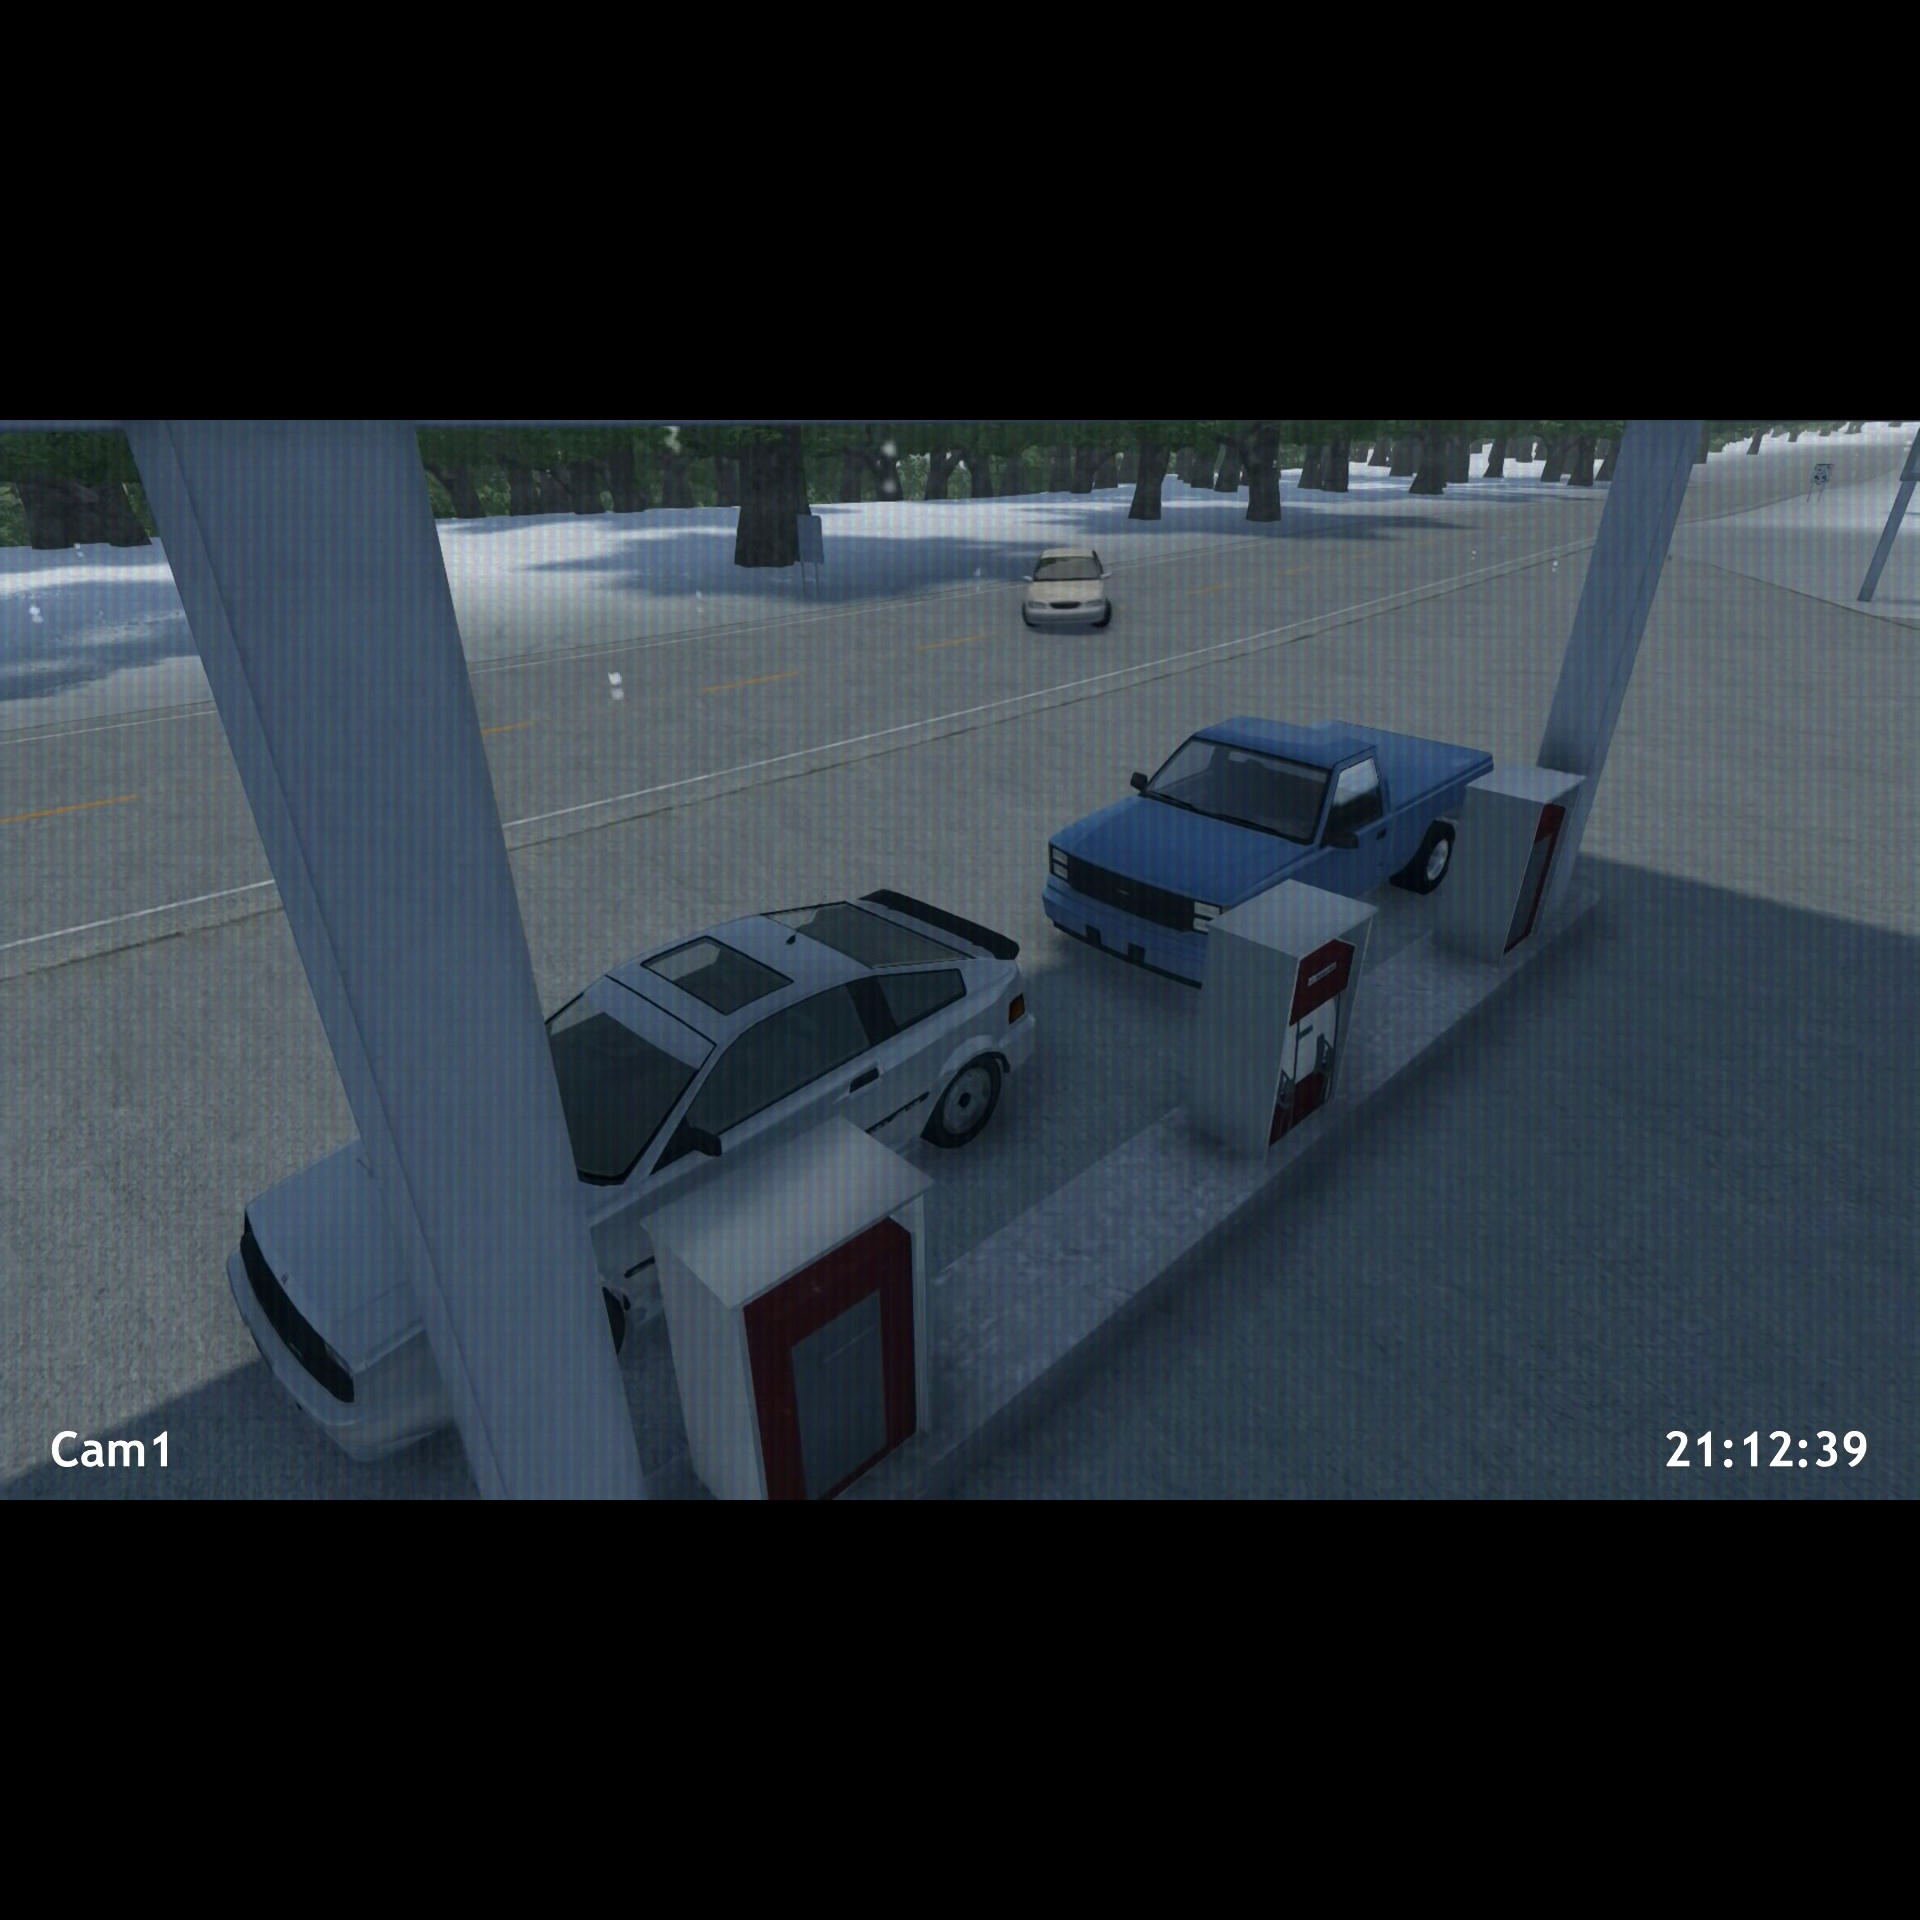vehicle: (213, 872, 1041, 1468), (1034, 703, 1510, 1000), (1022, 536, 1118, 647)
